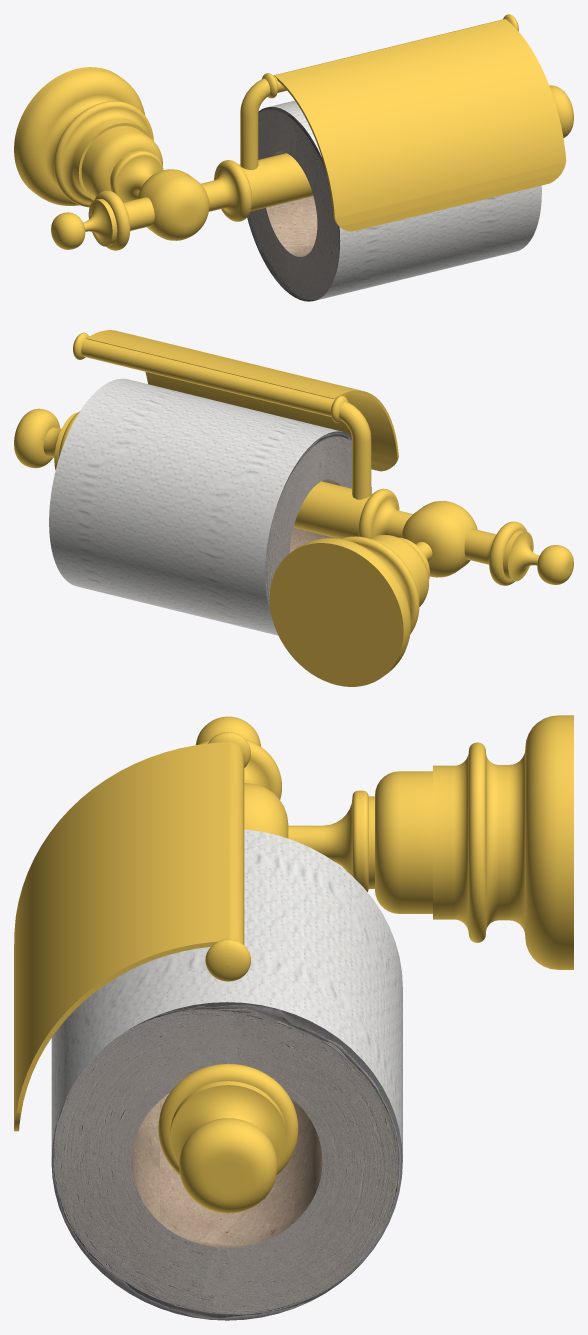
File: Scrap-transformed.glb
3 views of the same model, one above another, from view 1: azimuth 30°, elevation 25°; view 2: azimuth 150°, elevation 25°; view 3: azimuth 270°, elevation 25° (orthographic). The views are drawn at different scales.
Visible parts, largest first — view 1: Arc01_glass_0, Line02_silver_0, Tube01_papper1_0, Tube01_09 - Default_0, Tube01_papper2_0; view 2: Tube01_papper1_0, Line02_silver_0, Arc01_glass_0, Tube01_09 - Default_0, Tube01_papper2_0; view 3: Line02_silver_0, Tube01_09 - Default_0, Arc01_glass_0, Tube01_papper1_0, Tube01_papper2_0.
Boxes of the visible parts, left/top/right/bottom form: Arc01_glass_0: left=275, top=19, right=566, bottom=231; Line02_silver_0: left=14, top=14, right=573, bottom=250; Tube01_papper1_0: left=268, top=100, right=541, bottom=300; Tube01_09 - Default_0: left=247, top=107, right=340, bottom=301; Tube01_papper2_0: left=266, top=151, right=317, bottom=256; Tube01_papper1_0: left=49, top=378, right=341, bottom=635; Line02_silver_0: left=14, top=332, right=573, bottom=686; Arc01_glass_0: left=86, top=330, right=398, bottom=471; Tube01_09 - Default_0: left=265, top=431, right=371, bottom=615; Tube01_papper2_0: left=289, top=479, right=340, bottom=552; Line02_silver_0: left=158, top=715, right=573, bottom=1213; Tube01_09 - Default_0: left=51, top=1002, right=402, bottom=1320; Arc01_glass_0: left=14, top=742, right=229, bottom=1131; Tube01_papper1_0: left=51, top=829, right=402, bottom=1159; Tube01_papper2_0: left=132, top=1093, right=322, bottom=1247.
Bounding box in the file's own units: 7.27 × 3.07 × 3.92.
5 materials, 3 textured.
